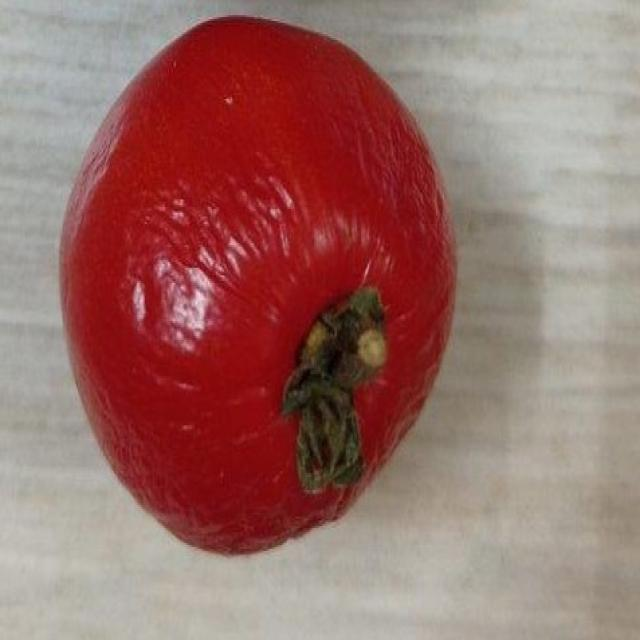overripe: (54, 12, 460, 560)
